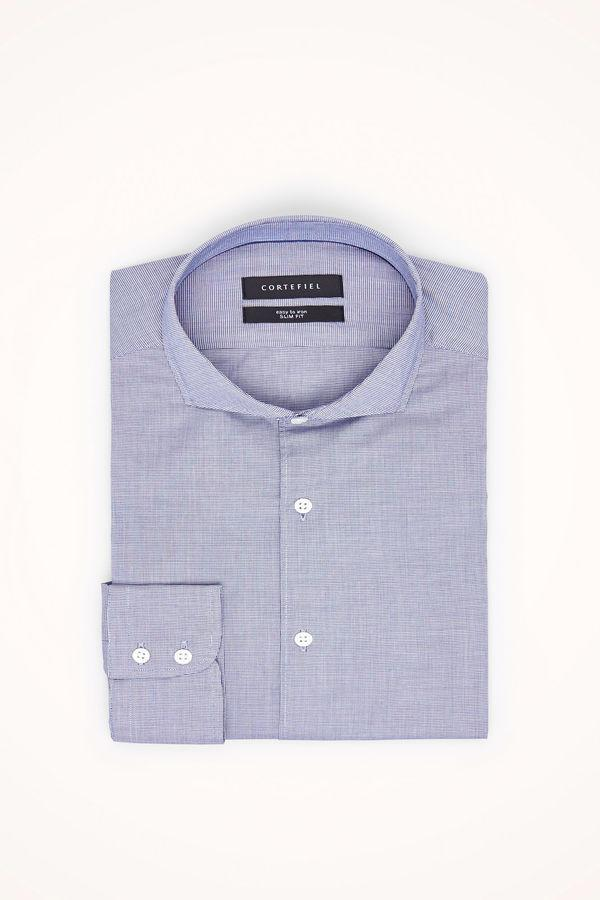teeshirt: (92, 225, 507, 769)
